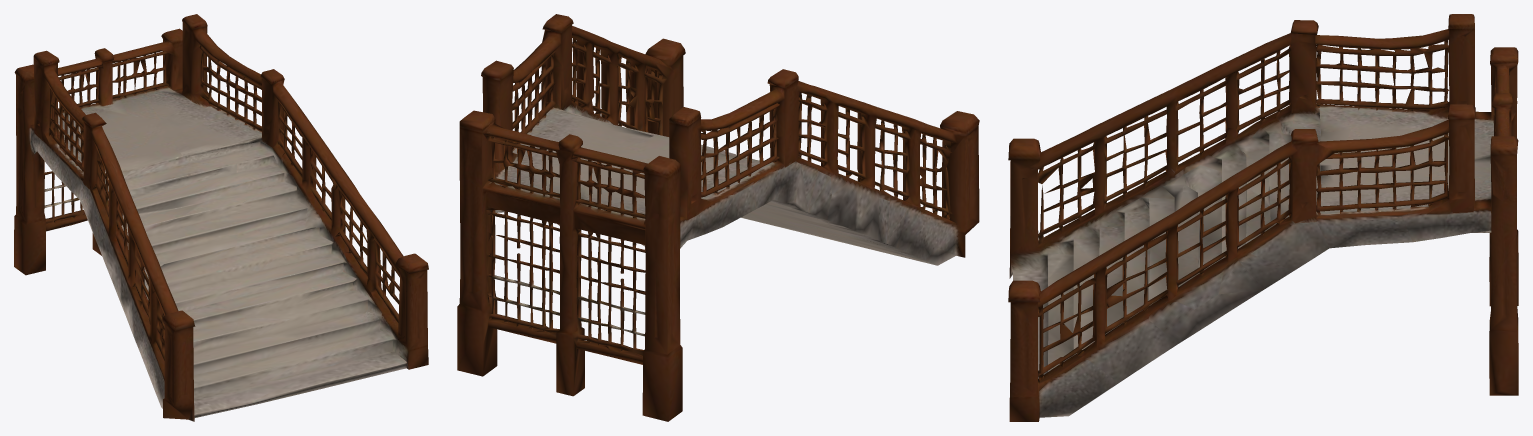
The model's file is tangga_westin.glb.
The picture shows the model from 3 angles, left to right: view 1: azimuth 30°, elevation 25°; view 2: azimuth 150°, elevation 25°; view 3: azimuth 270°, elevation 25°; orthographic projection. The views are drawn at different scales.
Visible parts, largest first — view 1: tripo_node_87b19e1a-cba5-4ec0-bc42-f87f93abc6fe; view 2: tripo_node_87b19e1a-cba5-4ec0-bc42-f87f93abc6fe; view 3: tripo_node_87b19e1a-cba5-4ec0-bc42-f87f93abc6fe.
Part boxes in pixels (x1,y1,x2,y2): tripo_node_87b19e1a-cba5-4ec0-bc42-f87f93abc6fe: [14, 14, 428, 421]; tripo_node_87b19e1a-cba5-4ec0-bc42-f87f93abc6fe: [457, 14, 979, 421]; tripo_node_87b19e1a-cba5-4ec0-bc42-f87f93abc6fe: [1008, 14, 1518, 421].
Bounding box in the file's own units: 0.7192 × 0.6115 × 1.
Materials: 1 (1 with a texture image).
